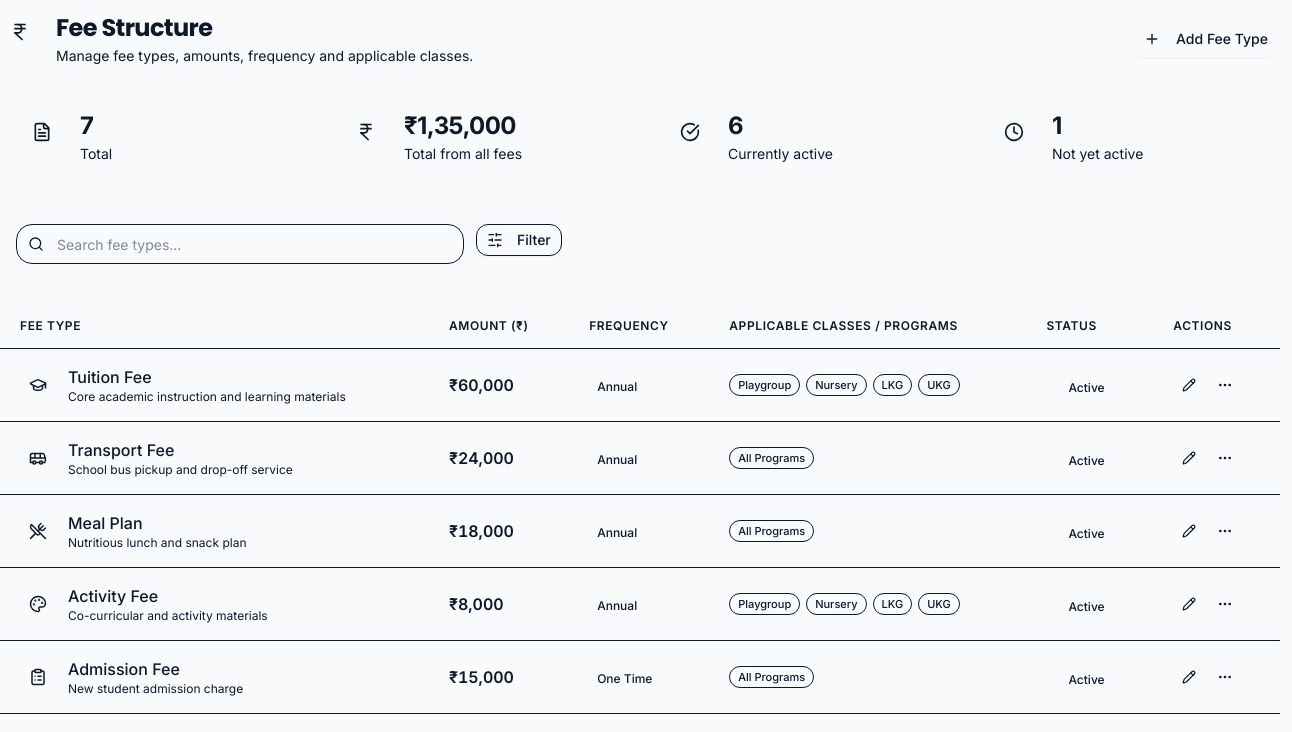
FeeStructurePage › filters fee types by name when typing in search
Type "Tuition" into the field with placeholder "Search fee types..." at [240, 244], box [16, 224, 464, 264]
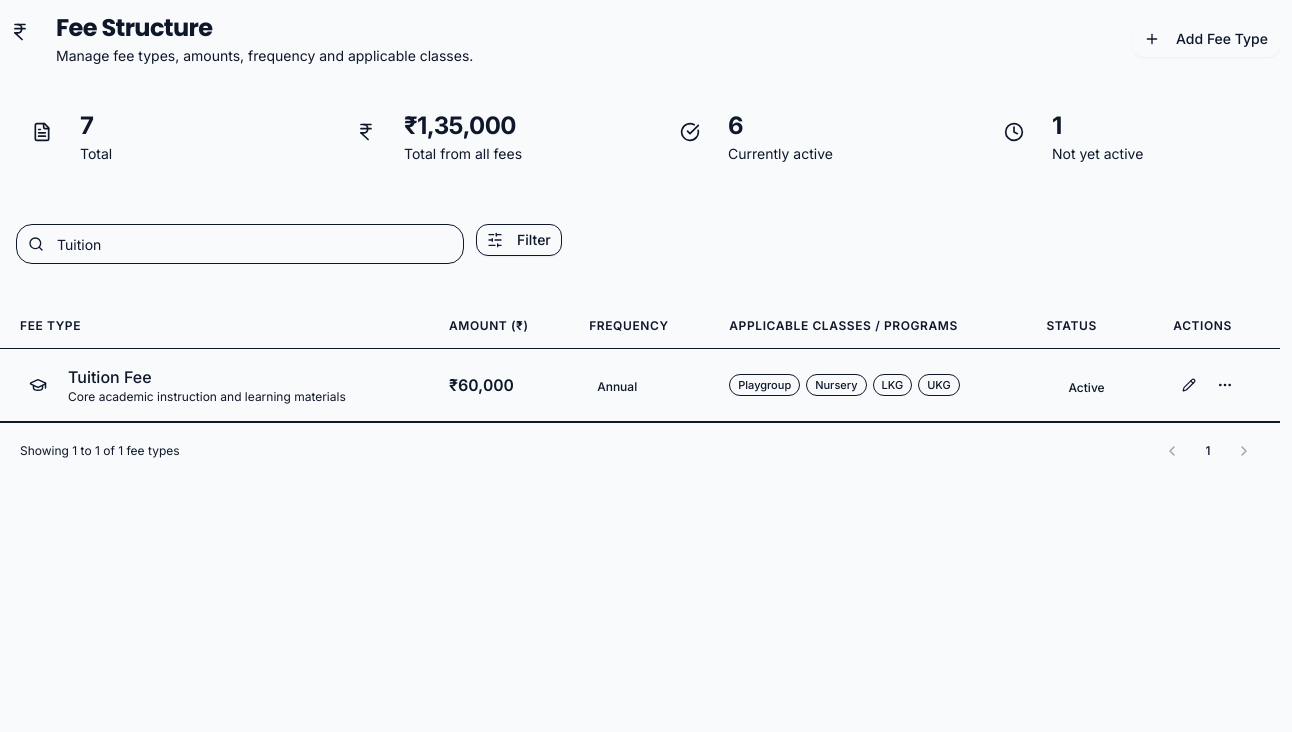
Expected: the text "Tuition Fee" is shown, [68, 367, 152, 387]
Expected: the text "Transport Fee" is gone
